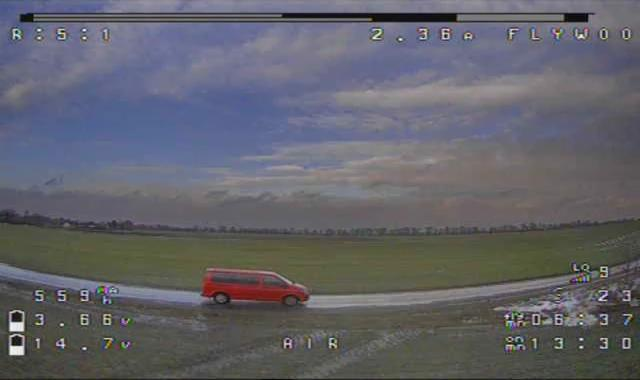car: (200, 269, 312, 307)
